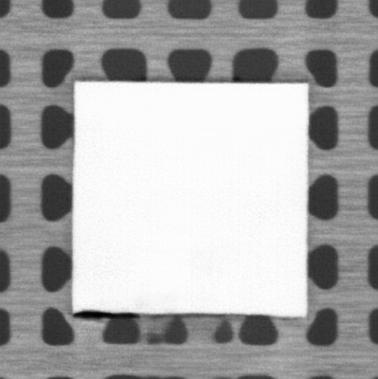DIE_BROKEN: (71, 308, 141, 319)
